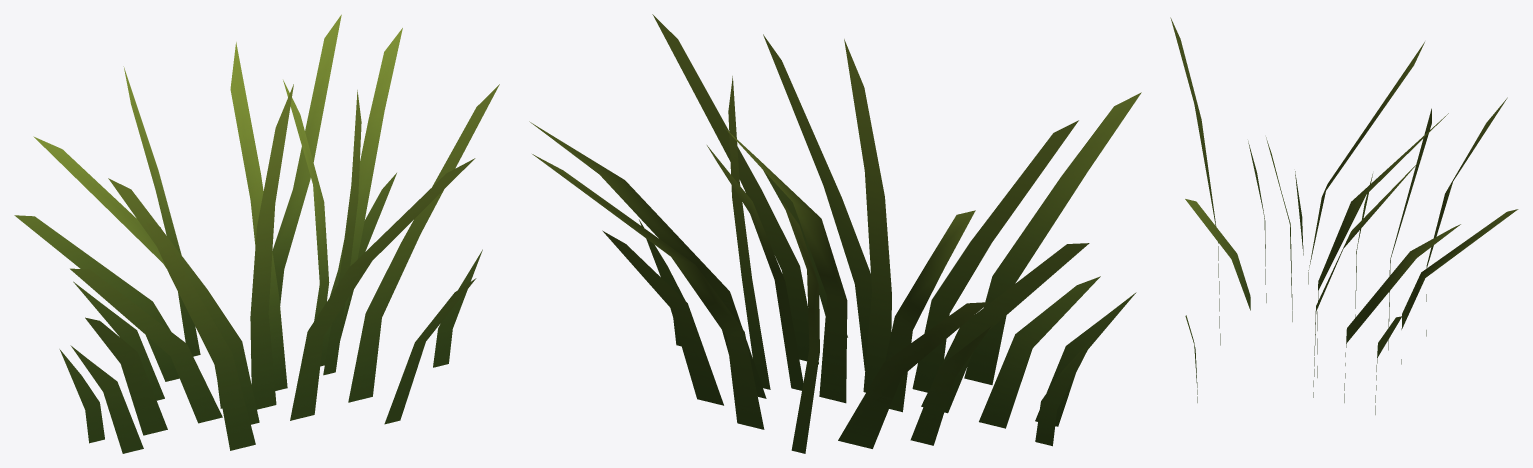
File: grass_large.gltf
3 renders of one model, left to right at view 1: azimuth 30°, elevation 25°; view 2: azimuth 150°, elevation 25°; view 3: azimuth 270°, elevation 25°, orthographic. The views are drawn at different scales.
Visible parts, largest first — view 1: Grass_Large; view 2: Grass_Large; view 3: Grass_Large.
Boxes of the visible parts, <box> form: Grass_Large: <box>14,14,499,453</box>; Grass_Large: <box>529,14,1141,453</box>; Grass_Large: <box>1170,17,1518,414</box>.
Bounding box in the file's own units: 0.7085 × 0.4851 × 0.498.
Materials: 1 (1 with a texture image).
